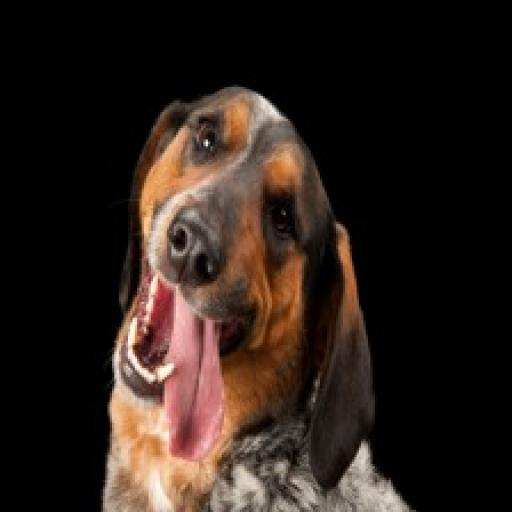dog: (84, 75, 437, 512)
